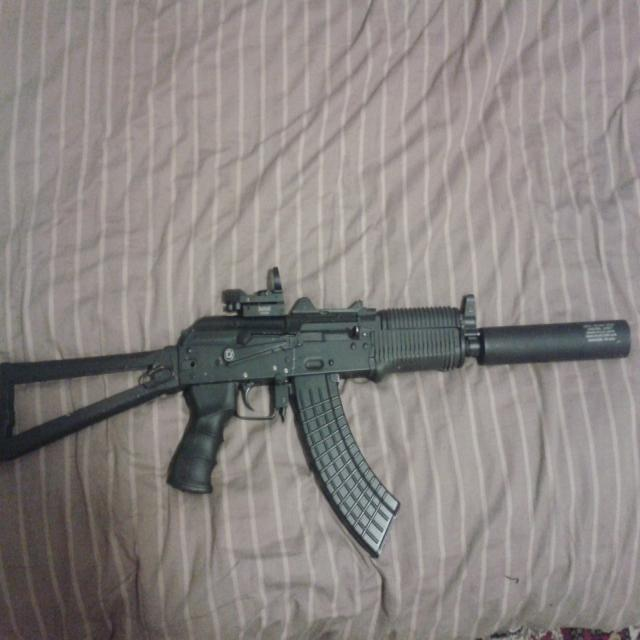firearm: (0, 264, 633, 560)
